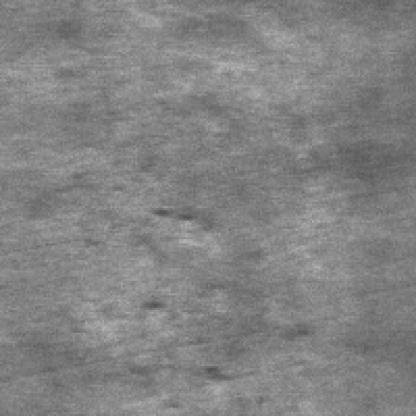rolled-in_scale: (133, 204, 241, 341)
